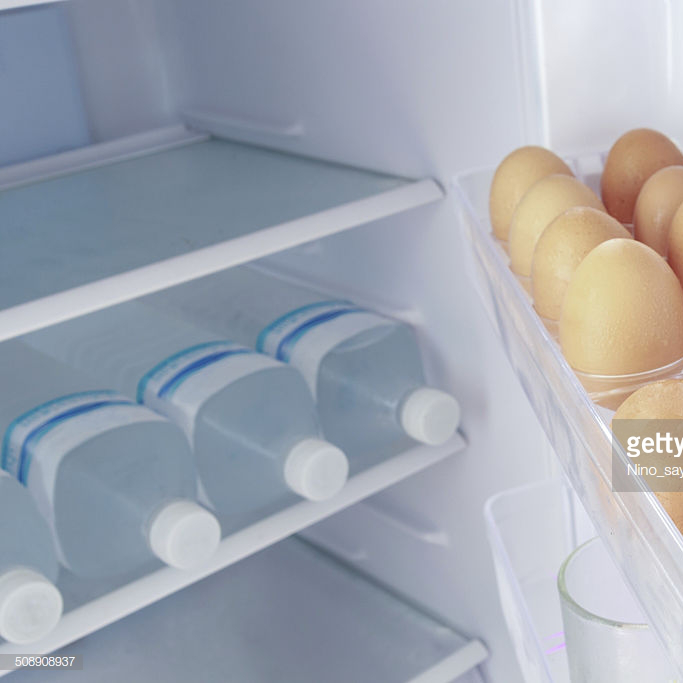egg: (483, 132, 683, 519)
